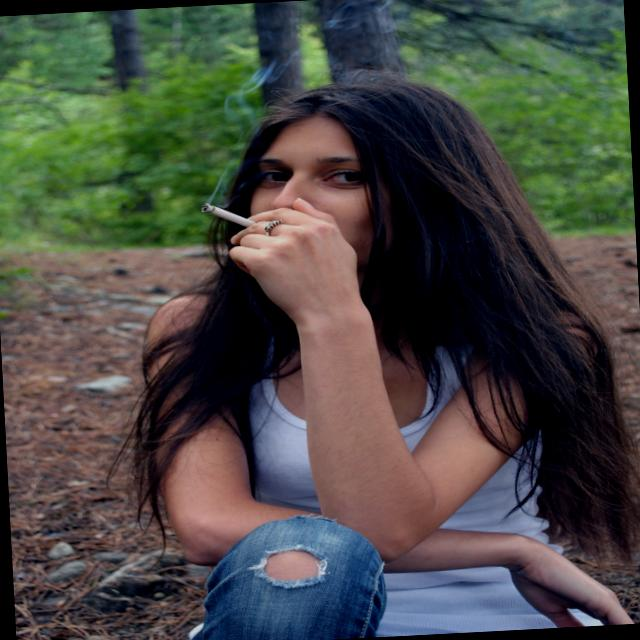smoke: (192, 194, 272, 238)
